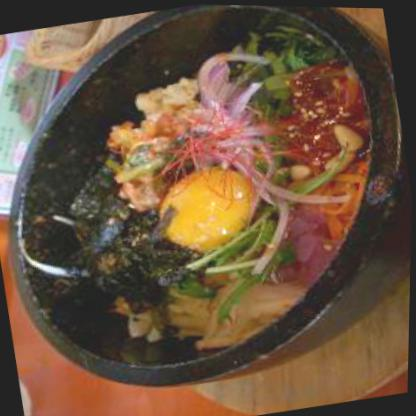bibimbap: (0, 0, 415, 398)
